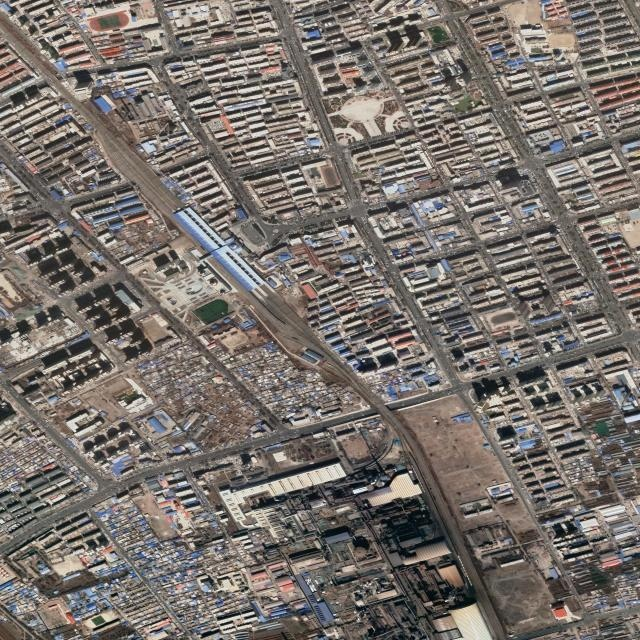coal_fired_power_plant: (220, 455, 495, 640)
